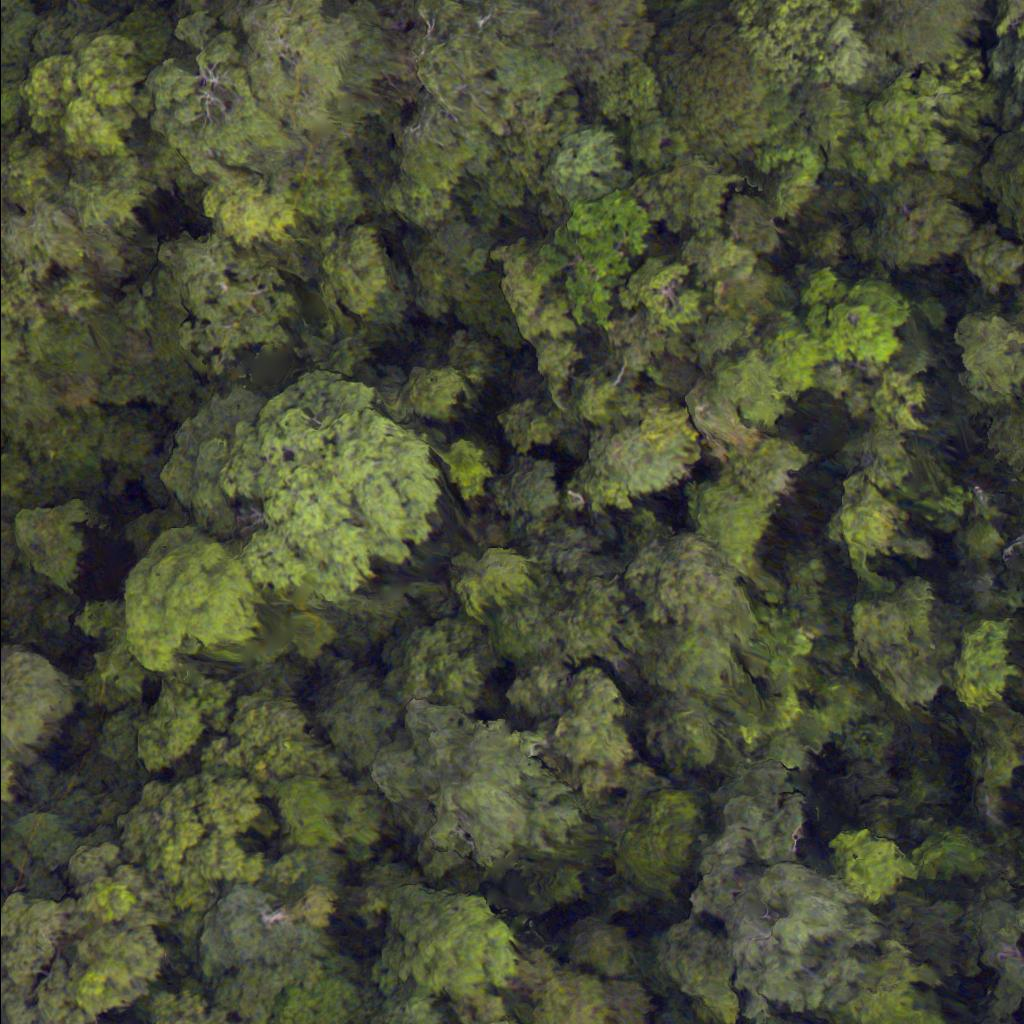crown: (218, 374, 439, 600), (372, 698, 584, 862), (0, 840, 164, 1023), (731, 862, 881, 1012), (124, 527, 260, 671), (128, 776, 265, 915), (550, 670, 632, 796), (833, 828, 918, 902), (0, 748, 12, 804)
